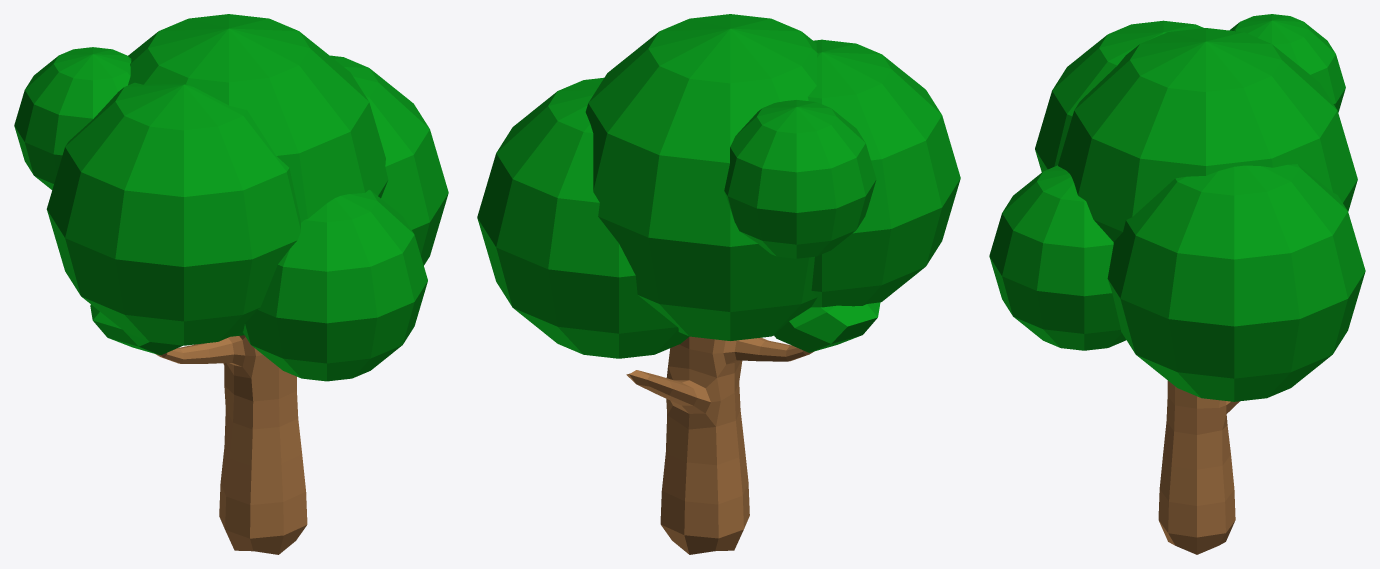
Rendered from Tree1.fbx.
The picture shows the model from 3 angles, left to right: view 1: azimuth 30°, elevation 25°; view 2: azimuth 150°, elevation 25°; view 3: azimuth 270°, elevation 25°; orthographic projection. The views are drawn at different scales.
Visible parts, largest first — view 1: Cube; view 2: Cube; view 3: Cube.
Part boxes in pixels (bbox=[...]): Cube: bbox=[14, 14, 448, 554]; Cube: bbox=[477, 14, 960, 554]; Cube: bbox=[989, 14, 1365, 554].
Size of the model in its own units: 159 by 199 by 137.
